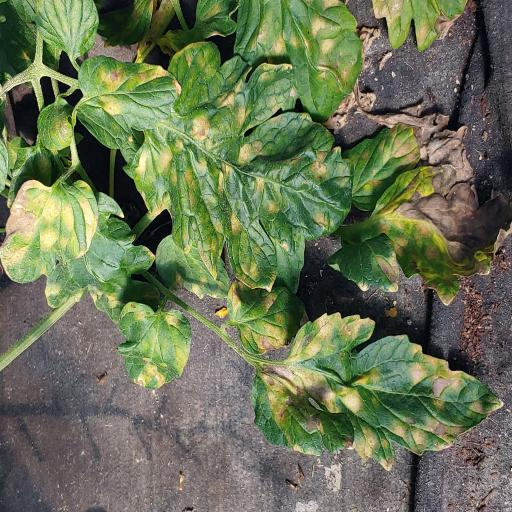disease_tomato: (132, 42, 356, 293), (252, 312, 504, 473), (325, 164, 512, 307), (234, 0, 364, 122), (2, 172, 100, 282), (340, 122, 422, 212), (119, 296, 192, 390), (77, 54, 181, 118), (227, 278, 310, 356), (155, 233, 231, 299)
